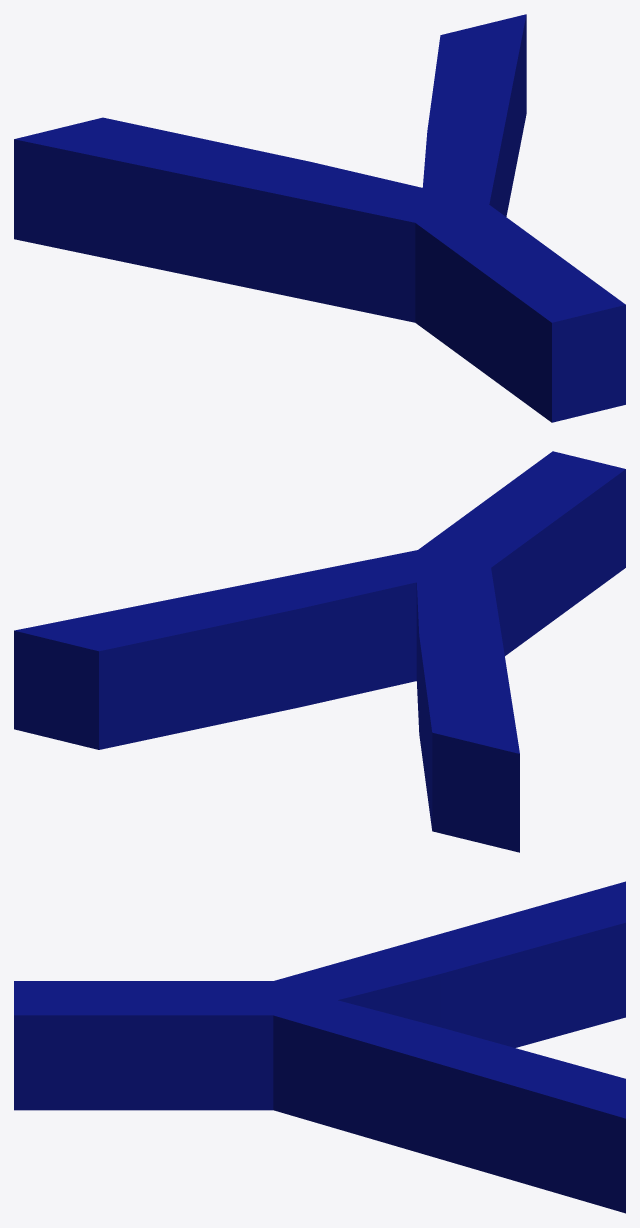
3 renders of one model, top to bottom at view 1: azimuth 30°, elevation 25°; view 2: azimuth 150°, elevation 25°; view 3: azimuth 270°, elevation 25°, orthographic. The views are drawn at different scales.
Visible parts, largest first — view 1: TextPlus025; view 2: TextPlus025; view 3: TextPlus025.
Boxes of the visible parts, x1,y1,x2,y2 form: TextPlus025: (14, 14, 625, 422); TextPlus025: (14, 451, 625, 852); TextPlus025: (14, 881, 625, 1213).
Bounding box in the file's own units: 23.52 × 4.38 × 25.64.
